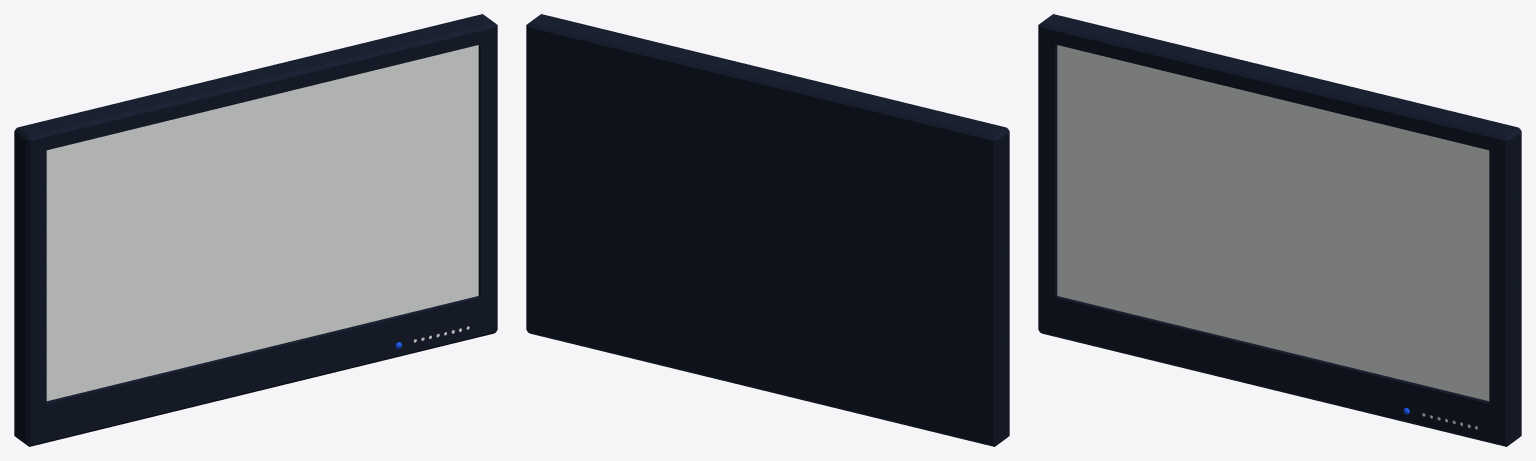
Rendered from XianShiPing.FBX.
3 renders of one model, left to right at view 1: azimuth 30°, elevation 25°; view 2: azimuth 150°, elevation 25°; view 3: azimuth 330°, elevation 25°, orthographic.
Parts seen in each view (by area): view 1: YF_Model_XianShiPing; view 2: YF_Model_XianShiPing; view 3: YF_Model_XianShiPing.
Boxes of the visible parts, box(x1,y1,x2,y2) form: YF_Model_XianShiPing: box(14, 14, 497, 446); YF_Model_XianShiPing: box(526, 14, 1009, 446); YF_Model_XianShiPing: box(1038, 14, 1521, 446).
Bounding box in the file's own units: 79.99 × 50.37 × 5.05.
Materials: 1 (1 with a texture image).
